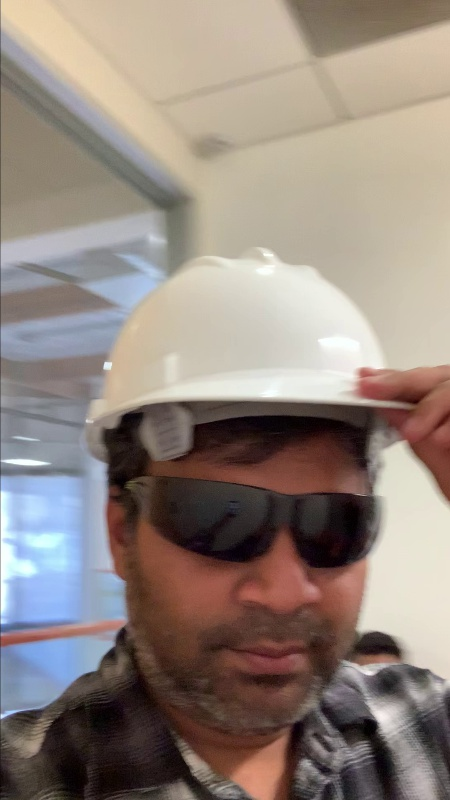glasses: (147, 478, 384, 575)
helmet: (97, 247, 363, 402)
